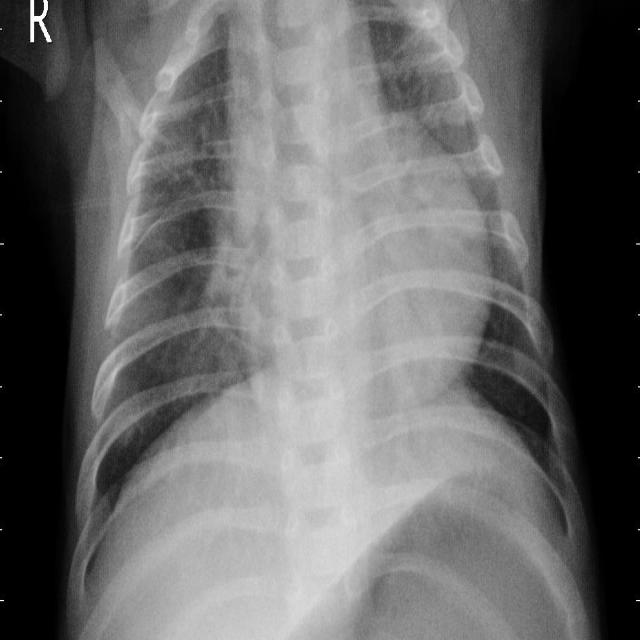low-pneumonia: (115, 64, 205, 388), (408, 9, 510, 251), (183, 109, 244, 404)
